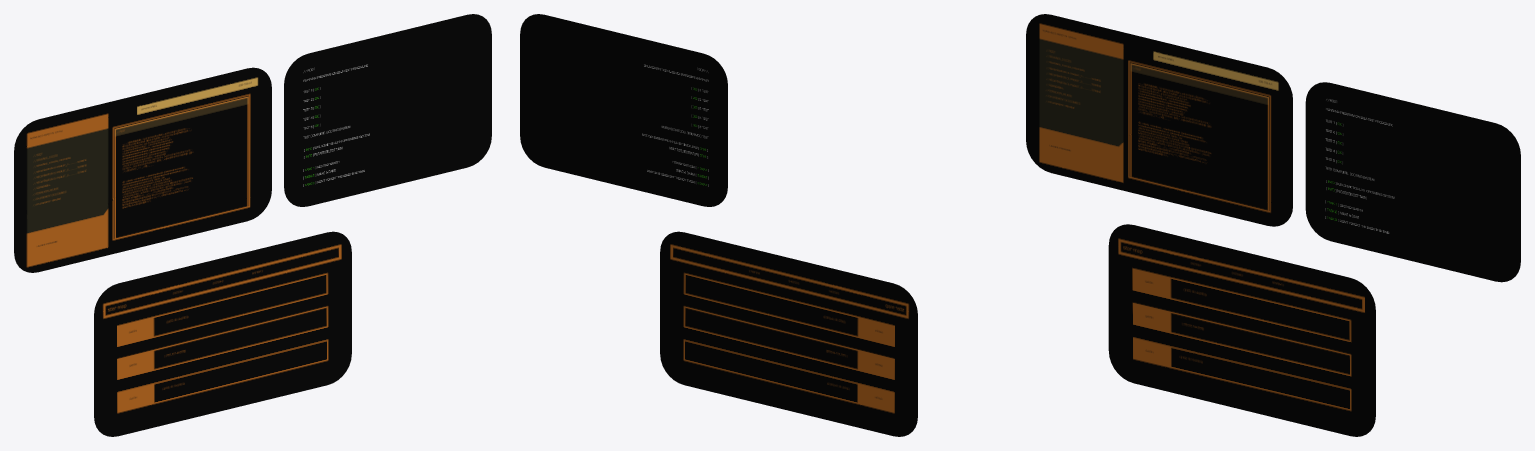
File: atlaslv4.glb
The picture shows the model from 3 angles, left to right: view 1: azimuth 30°, elevation 25°; view 2: azimuth 150°, elevation 25°; view 3: azimuth 330°, elevation 25°; orthographic projection. The views are drawn at different scales.
Parts seen in each view (by area): view 1: Cube.107, Cube.109, Cube.056; view 2: Cube.109, Cube.056; view 3: Cube.109, Cube.107, Cube.056.
Part boxes in pixels (x1,y1,x2,y2): Cube.107: (14, 67, 271, 272); Cube.109: (94, 231, 351, 436); Cube.056: (284, 14, 491, 206); Cube.109: (660, 231, 917, 436); Cube.056: (520, 14, 727, 206); Cube.109: (1108, 224, 1375, 436); Cube.107: (1026, 14, 1292, 226); Cube.056: (1305, 82, 1520, 282).
Size of the model in its own units: 12.83 by 8.63 by 2.09e-07.
Materials: 1 (1 with a texture image).
